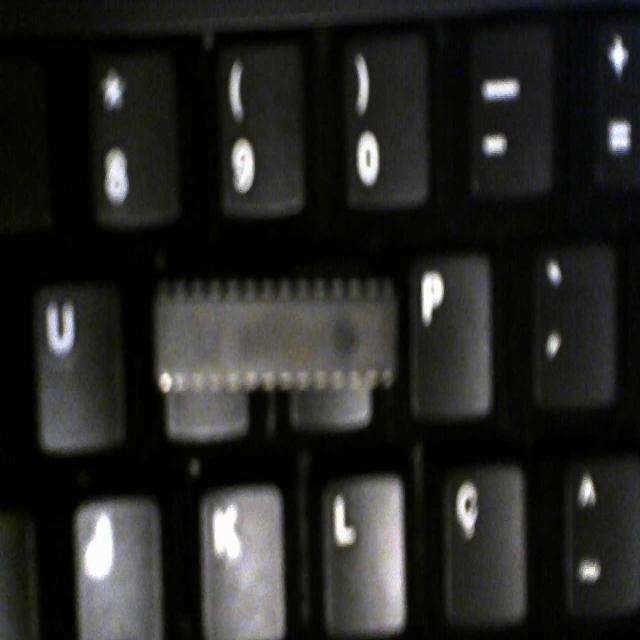atmega: (3, 6, 636, 636)
